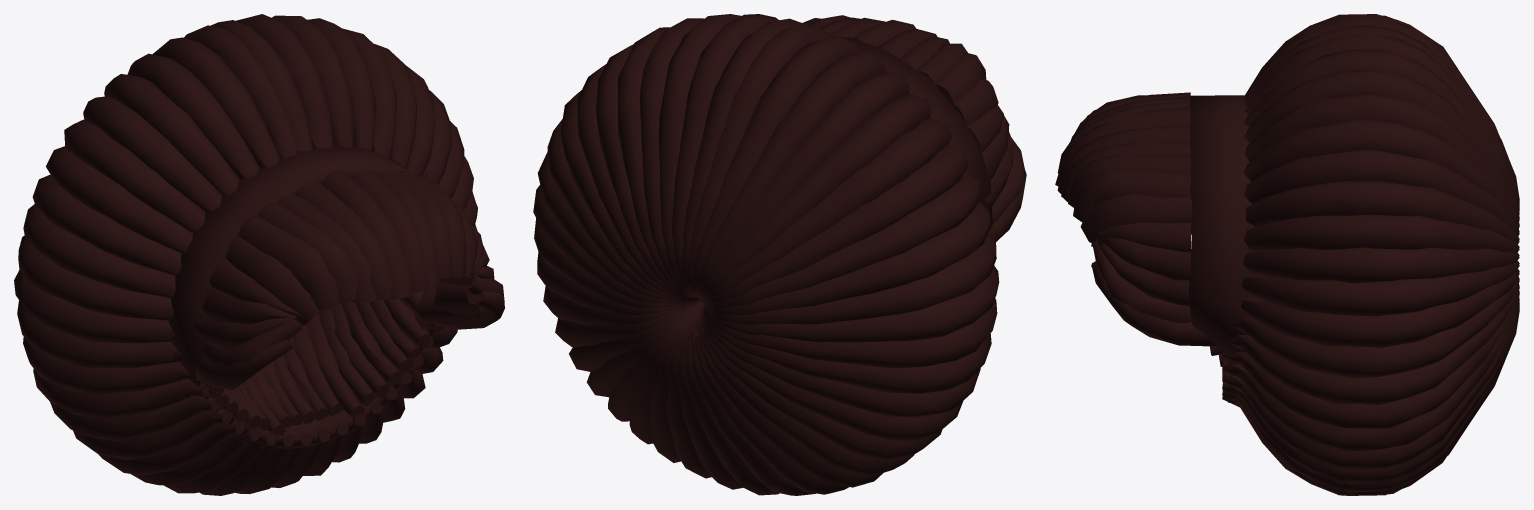
The model's file is hair-9-8a5bb4da.glb.
3 renders of one model, left to right at view 1: azimuth 30°, elevation 25°; view 2: azimuth 150°, elevation 25°; view 3: azimuth 270°, elevation 25°, orthographic. The views are drawn at different scales.
Visible parts, largest first — view 1: hair_9.001; view 2: hair_9.001; view 3: hair_9.001.
Part boxes in pixels (x1,y1,x2,y2): hair_9.001: (14, 14, 504, 495); hair_9.001: (533, 14, 1026, 495); hair_9.001: (1055, 14, 1519, 495).
Size of the model in its own units: 2.72 by 2.73 by 2.61.
